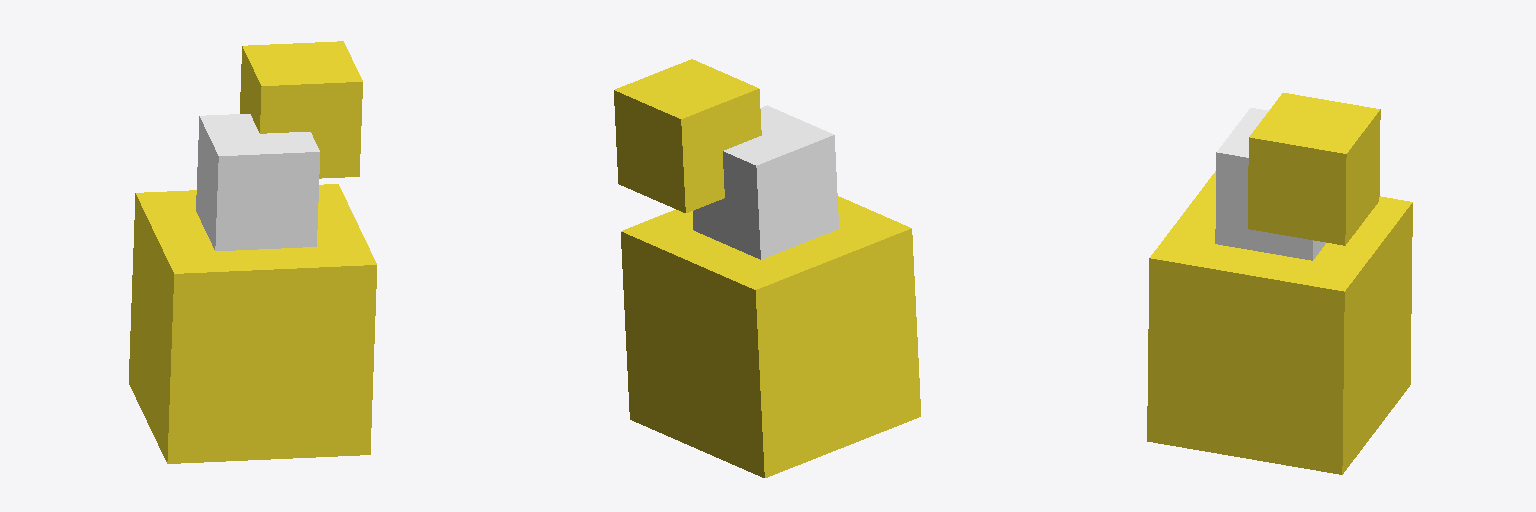
Rendered from DigitoFoot.obj.
3 views of the same model, side by side, from view 1: azimuth 30°, elevation 25°; view 2: azimuth 150°, elevation 25°; view 3: azimuth 270°, elevation 25° (orthographic).
Visible parts, largest first — view 1: group[number redacted], group[number redacted], group[number redacted]; view 2: group[number redacted], group[number redacted], group[number redacted]; view 3: group[number redacted], group[number redacted], group[number redacted].
Boxes of the visible parts, box(x1,y1,x2,y2) form: group[number redacted]: box(129, 184, 376, 463); group[number redacted]: box(196, 114, 319, 250); group[number redacted]: box(240, 41, 362, 178); group[number redacted]: box(621, 196, 920, 477); group[number redacted]: box(614, 59, 761, 212); group[number redacted]: box(693, 105, 838, 259); group[number redacted]: box(1147, 171, 1412, 474); group[number redacted]: box(1248, 93, 1380, 245); group[number redacted]: box(1215, 108, 1325, 260).
Bounding box in the file's own units: 0.29 × 0.3822 × 0.2759.